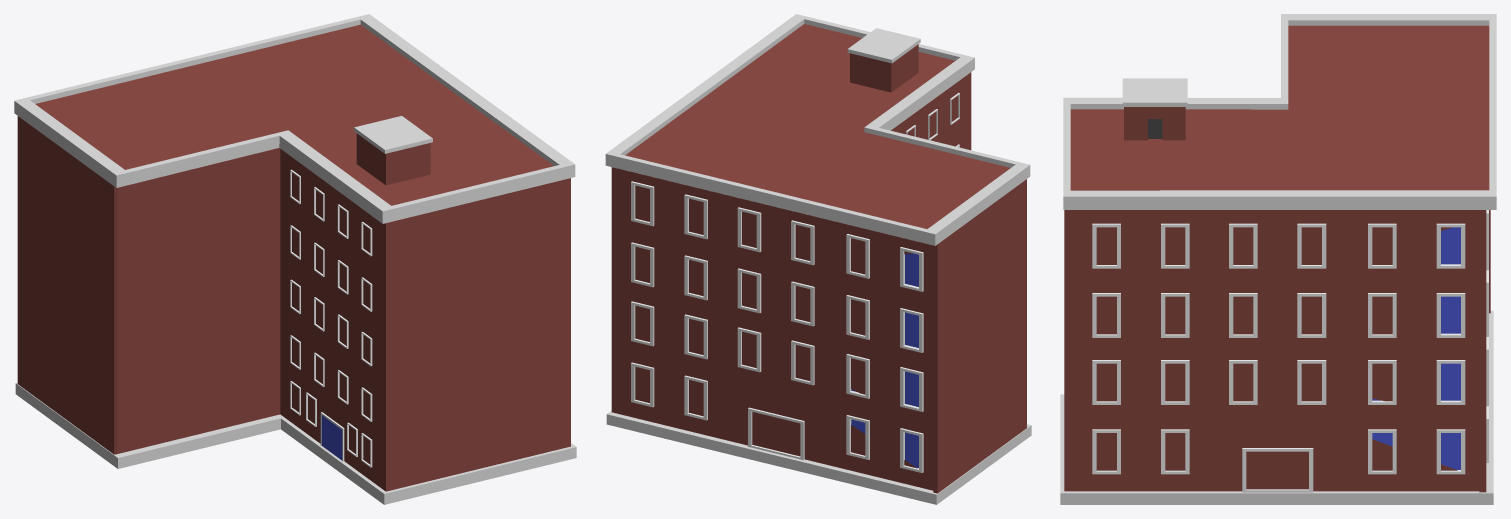
The picture shows the model from 3 angles, left to right: view 1: azimuth 30°, elevation 25°; view 2: azimuth 150°, elevation 25°; view 3: azimuth 270°, elevation 25°; orthographic projection. The views are drawn at different scales.
Visible parts, largest first — view 1: roof01_C, wall05_C, wall03_C, wall04_C, wall02_C, base01_C, wall07_C, roof02_C; view 2: wall01_C, roof01_C, wall02_C, base01_C, wall04_C, wall07_C, roof02_C; view 3: wall06_C, roof01_C, base01_C, wall01_C, roof02_C, wall07_C, wall05_C.
Part boxes in pixels (left/top/right/bottom): roof01_C: left=14, top=14, right=575, bottom=223; wall05_C: left=386, top=178, right=570, bottom=491; wall03_C: left=116, top=148, right=280, bottom=453; wall04_C: left=280, top=149, right=386, bottom=491; wall02_C: left=17, top=116, right=116, bottom=454; base01_C: left=15, top=383, right=576, bottom=504; wall07_C: left=356, top=133, right=430, bottom=185; roof02_C: left=354, top=116, right=432, bottom=153; wall01_C: left=611, top=167, right=933, bottom=490; roof01_C: left=605, top=14, right=1030, bottom=245; wall02_C: left=933, top=179, right=1026, bottom=493; base01_C: left=606, top=411, right=1031, bottom=504; wall04_C: left=891, top=72, right=971, bottom=150; wall07_C: left=850, top=44, right=918, bottom=92; roof02_C: left=847, top=28, right=920, bottom=63; wall06_C: left=1066, top=210, right=1479, bottom=492; roof01_C: left=1063, top=14, right=1496, bottom=209; base01_C: left=1060, top=310, right=1493, bottom=504; wall01_C: left=1479, top=210, right=1488, bottom=492; roof02_C: left=1122, top=78, right=1187, bottom=106; wall07_C: left=1124, top=107, right=1185, bottom=140; wall05_C: left=1064, top=210, right=1066, bottom=491.
Bounding box in the file's own units: 1644 × 1440 × 1659.
